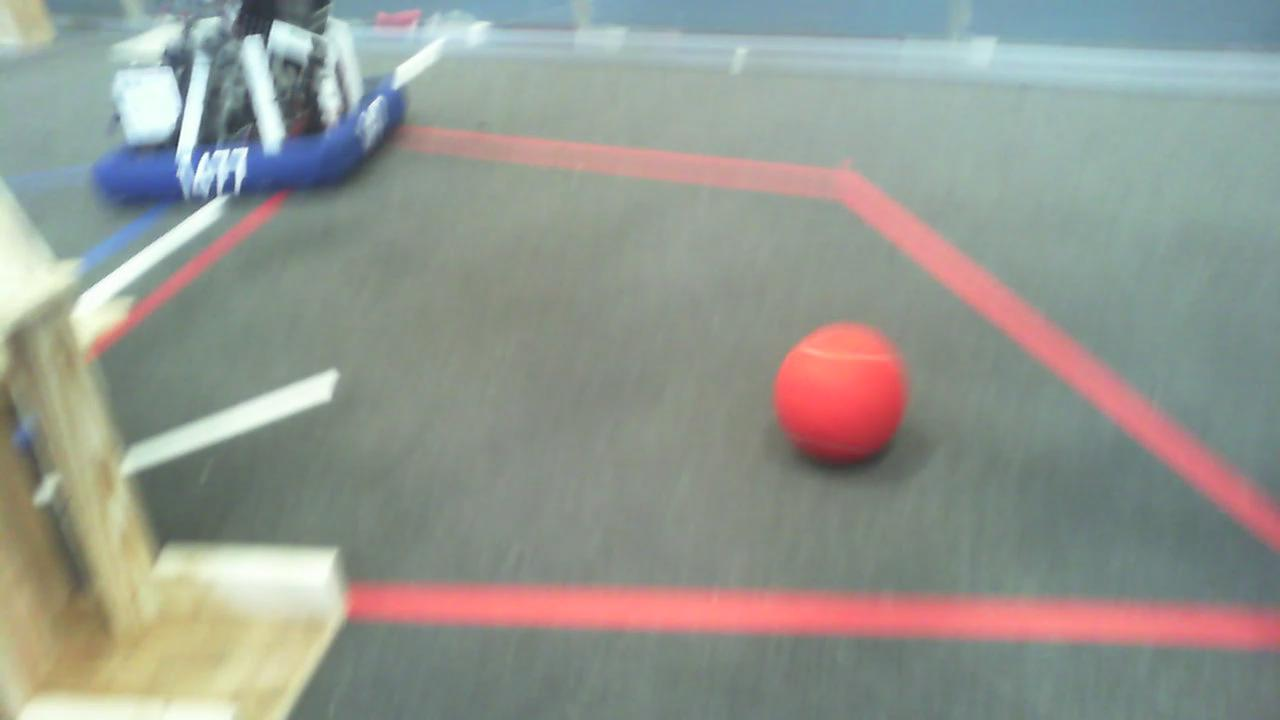robot: (87, 22, 405, 206)
